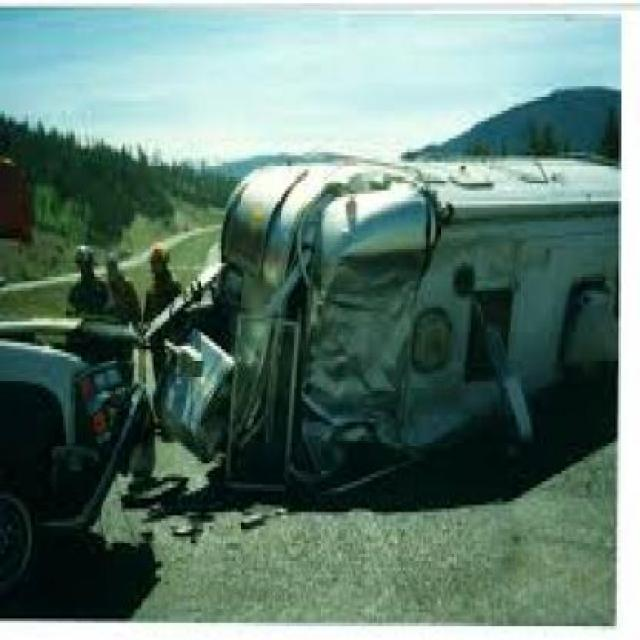accident: (64, 126, 630, 512)
